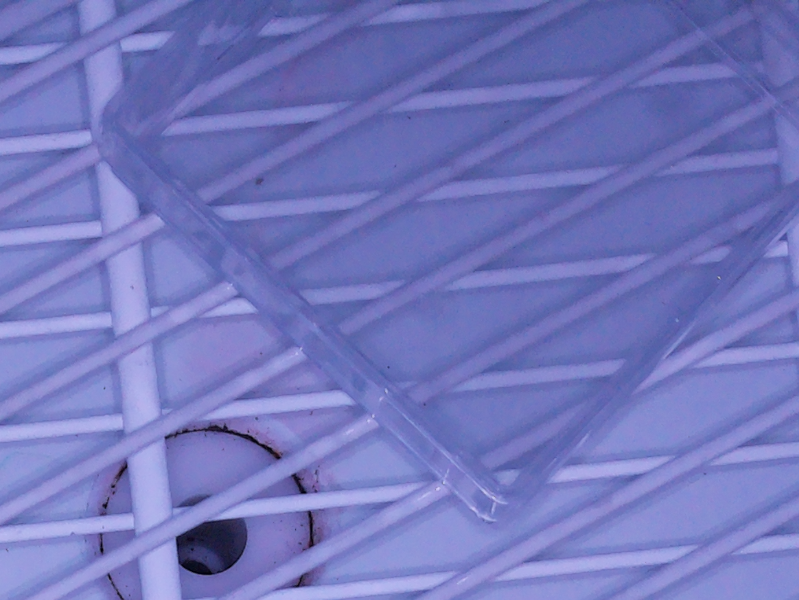plate: (88, 1, 799, 528)
